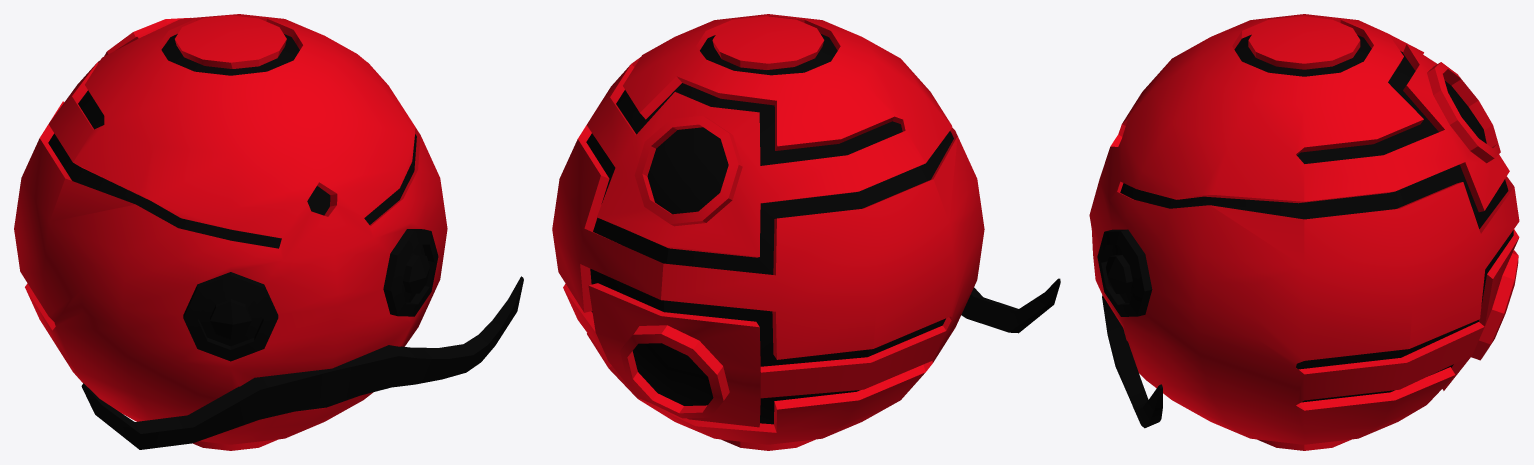
Rendered from Sherman.fbx.
3 views of the same model, side by side, from view 1: azimuth 30°, elevation 25°; view 2: azimuth 150°, elevation 25°; view 3: azimuth 270°, elevation 25° (orthographic).
Parts seen in each view (by area): view 1: Sherman; view 2: Sherman; view 3: Sherman.
Part boxes in pixels (x1,y1,x2,y2): Sherman: (14, 14, 523, 450); Sherman: (552, 14, 1060, 450); Sherman: (1089, 14, 1519, 450).
Bounding box in the file's own units: 235 × 202 × 199.
